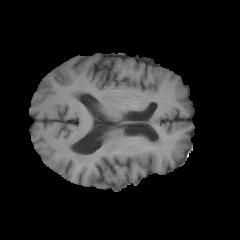glioma: (76, 137, 165, 171)
